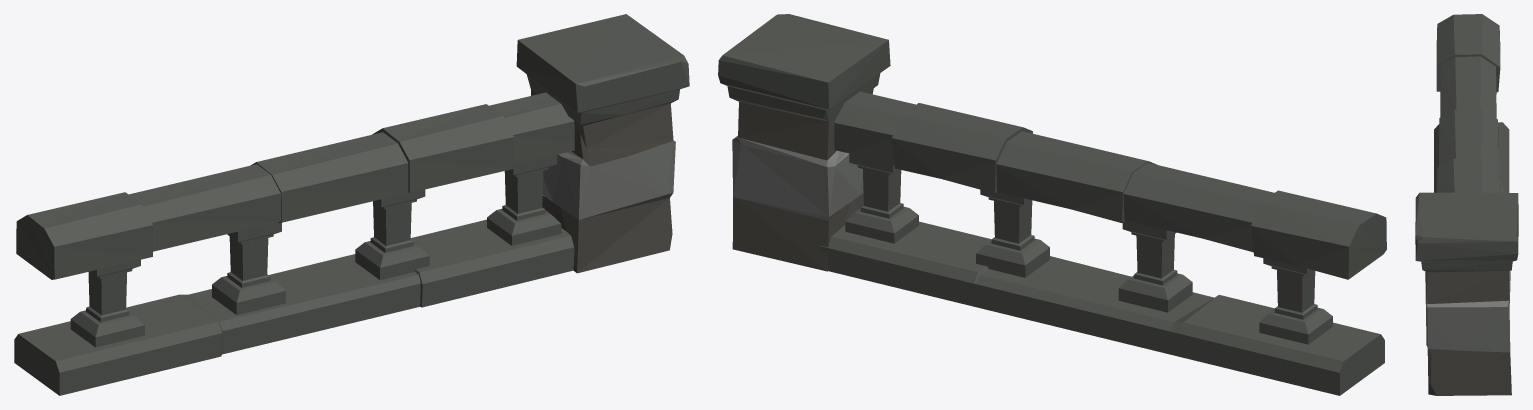
Rendered from MDungeon_Baluster_02_Straight.FBX.
3 views of the same model, side by side, from view 1: azimuth 30°, elevation 25°; view 2: azimuth 150°, elevation 25°; view 3: azimuth 270°, elevation 25° (orthographic). The views are drawn at different scales.
Visible parts, largest first — view 1: MDungeon_Baluster_02_Straight_LOD0; view 2: MDungeon_Baluster_02_Straight_LOD0; view 3: MDungeon_Baluster_02_Straight_LOD0.
Boxes of the visible parts, x1=… form: MDungeon_Baluster_02_Straight_LOD0: x1=14, y1=14, x2=689, y2=395; MDungeon_Baluster_02_Straight_LOD0: x1=718, y1=14, x2=1386, y2=395; MDungeon_Baluster_02_Straight_LOD0: x1=1415, y1=14, x2=1518, y2=395.
Size of what is drawn, in the model's own units: 6.09 by 1.82 by 1.05.
